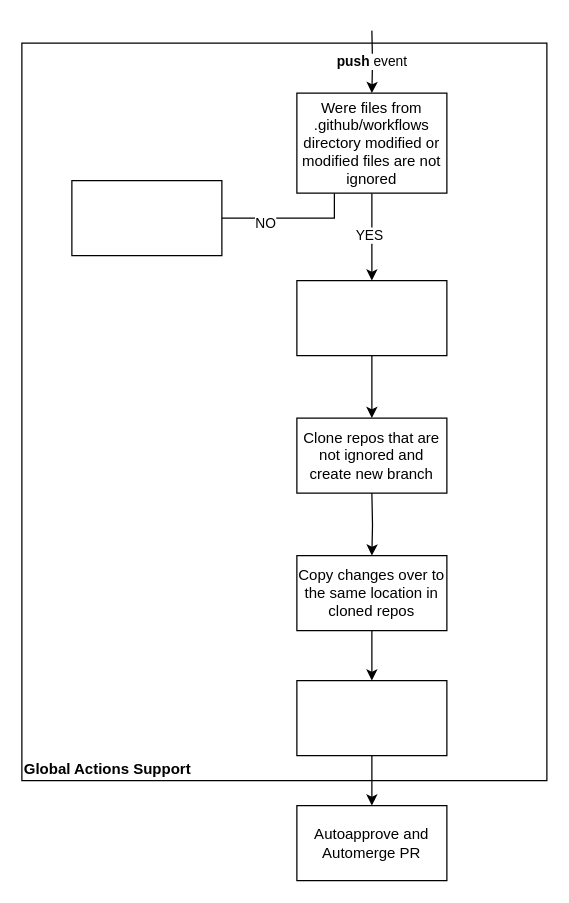
Image size: 569x903. Some labels were removed from this diagram. Here are the shapes that lost their labels. From the top down, the centre of each, then its label:
the point at 146,217: Stop workflow
the point at 371,317: Get from API list of all repos from organization where action runs
the point at 371,717: Push changes and open PRs
